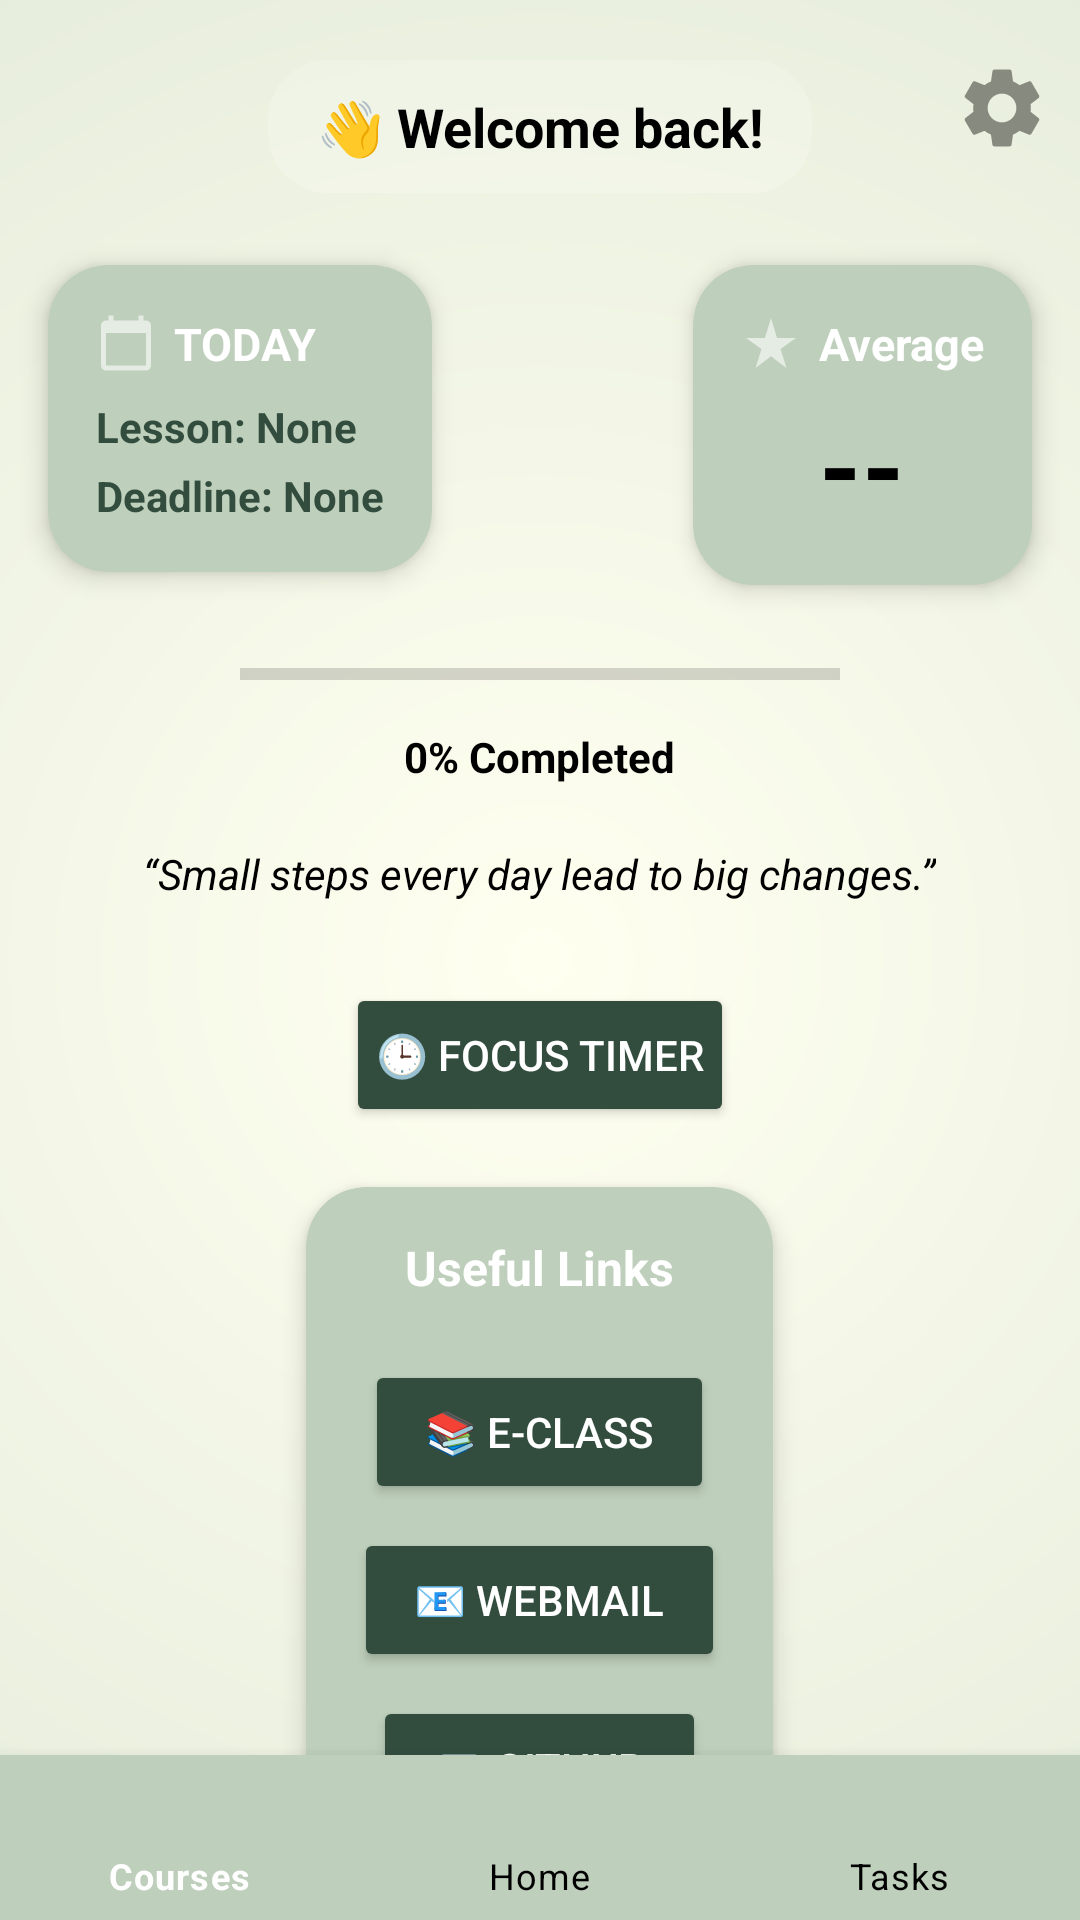

Screen size 1080px×1920px. Icon name, then its box in pixels as (x1, y1, x2, y2):
calendar: (101, 316, 151, 370)
Settings: (964, 69, 1040, 147)
